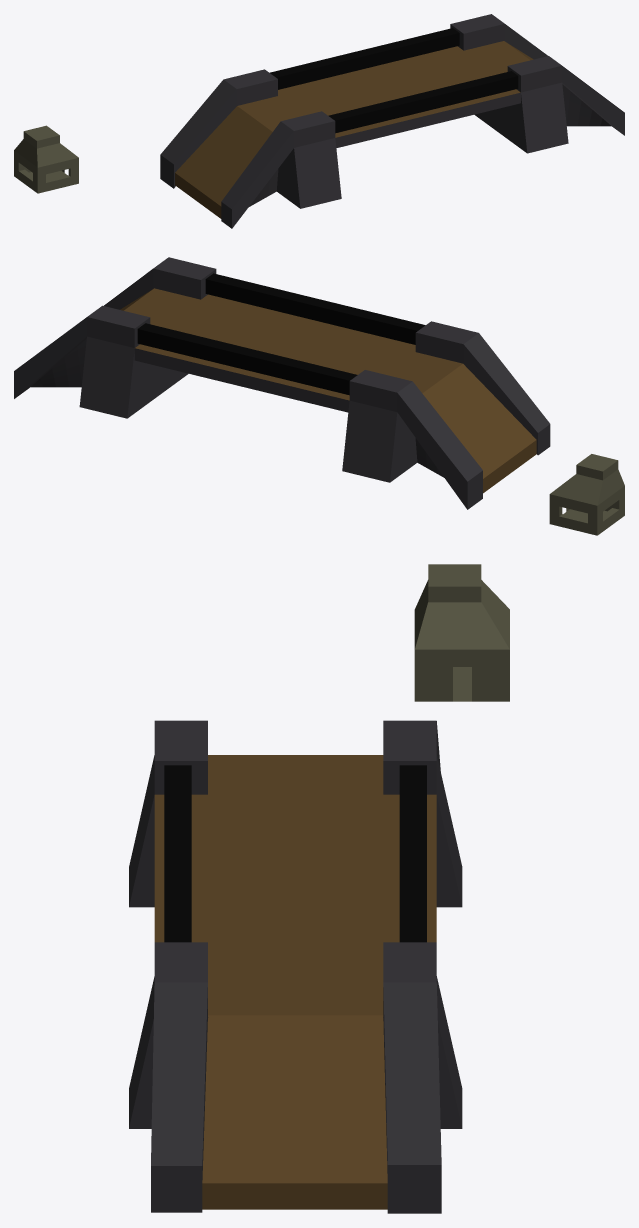
File: puente.fbx
3 views of the same model, one above another, from view 1: azimuth 30°, elevation 25°; view 2: azimuth 150°, elevation 25°; view 3: azimuth 270°, elevation 25° (orthographic). The views are drawn at different scales.
Parts seen in each view (by area): view 1: Cube.001, Cube; view 2: Cube.001, Cube; view 3: Cube.001, Cube.
Part boxes in pixels (x1,y1,x2,y2): Cube.001: [160, 14, 624, 228]; Cube: [14, 125, 78, 193]; Cube.001: [14, 257, 550, 509]; Cube: [549, 454, 624, 535]; Cube.001: [129, 720, 462, 1213]; Cube: [414, 564, 509, 701].
Bounding box in the file's own units: 2527 × 396 × 800.
